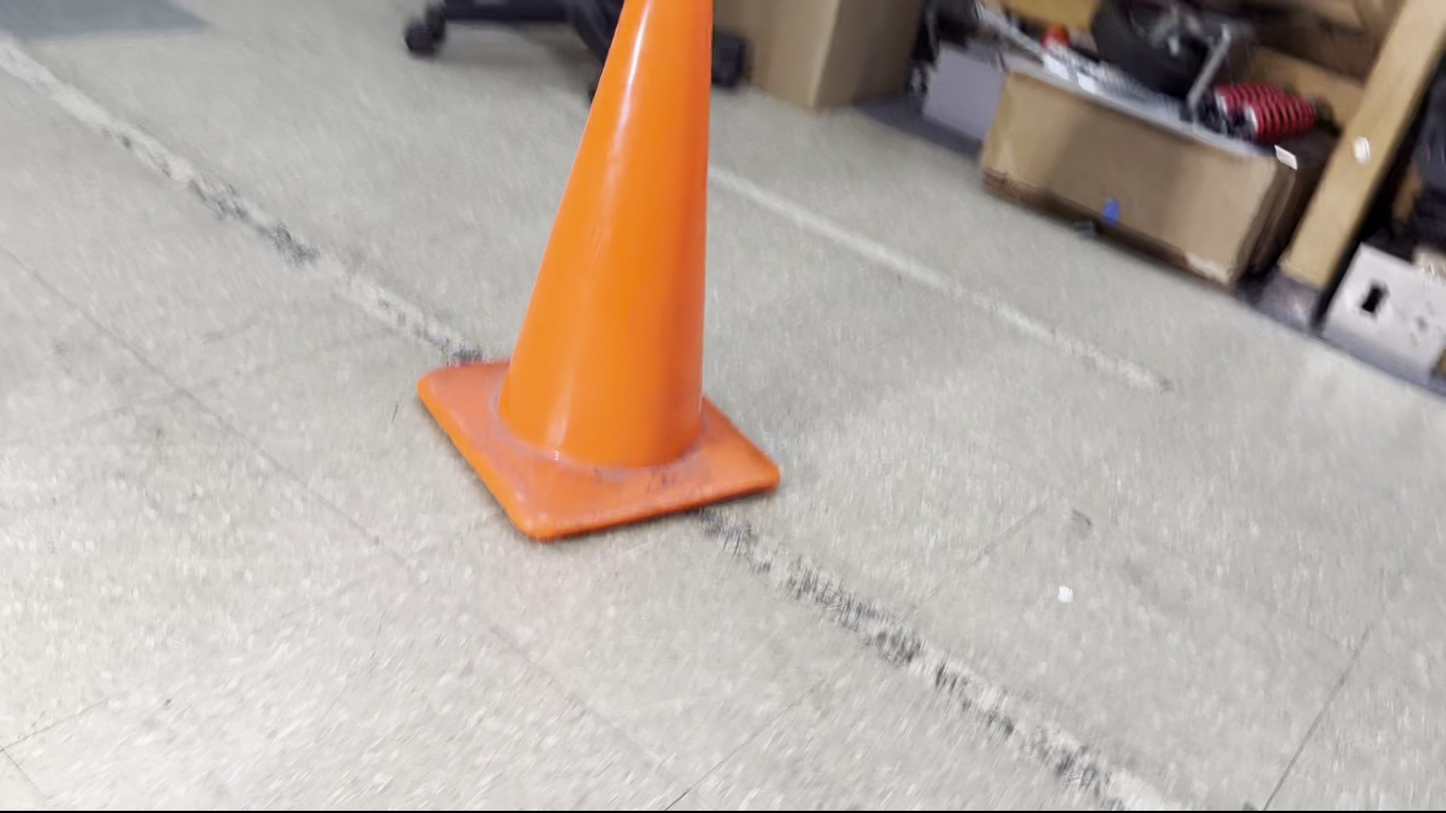traffic_cone: (416, 0, 782, 543)
